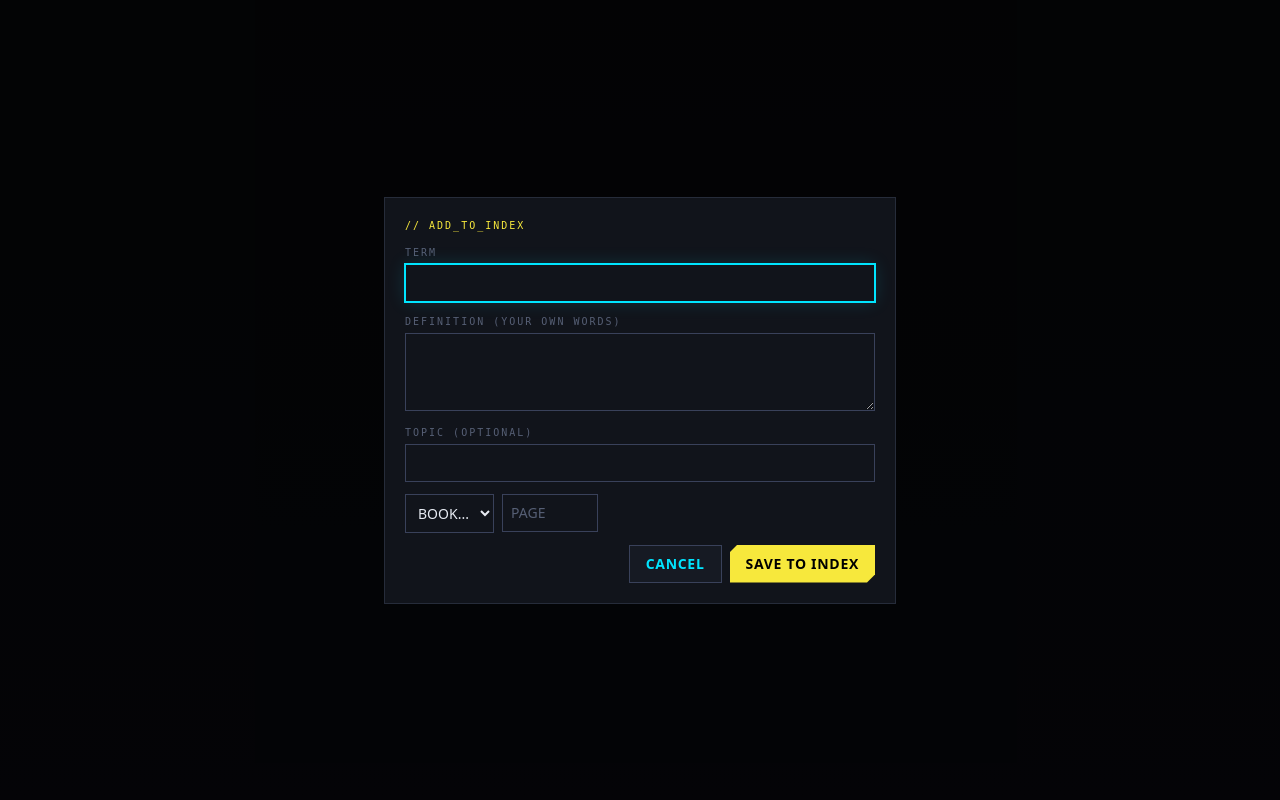
Scenario: a blank-citation page input of '3.5' is rejected with an error and no store write
In the field labelled "TERM": (640, 282) [405,264,875,302], type "Regolith Sweep"
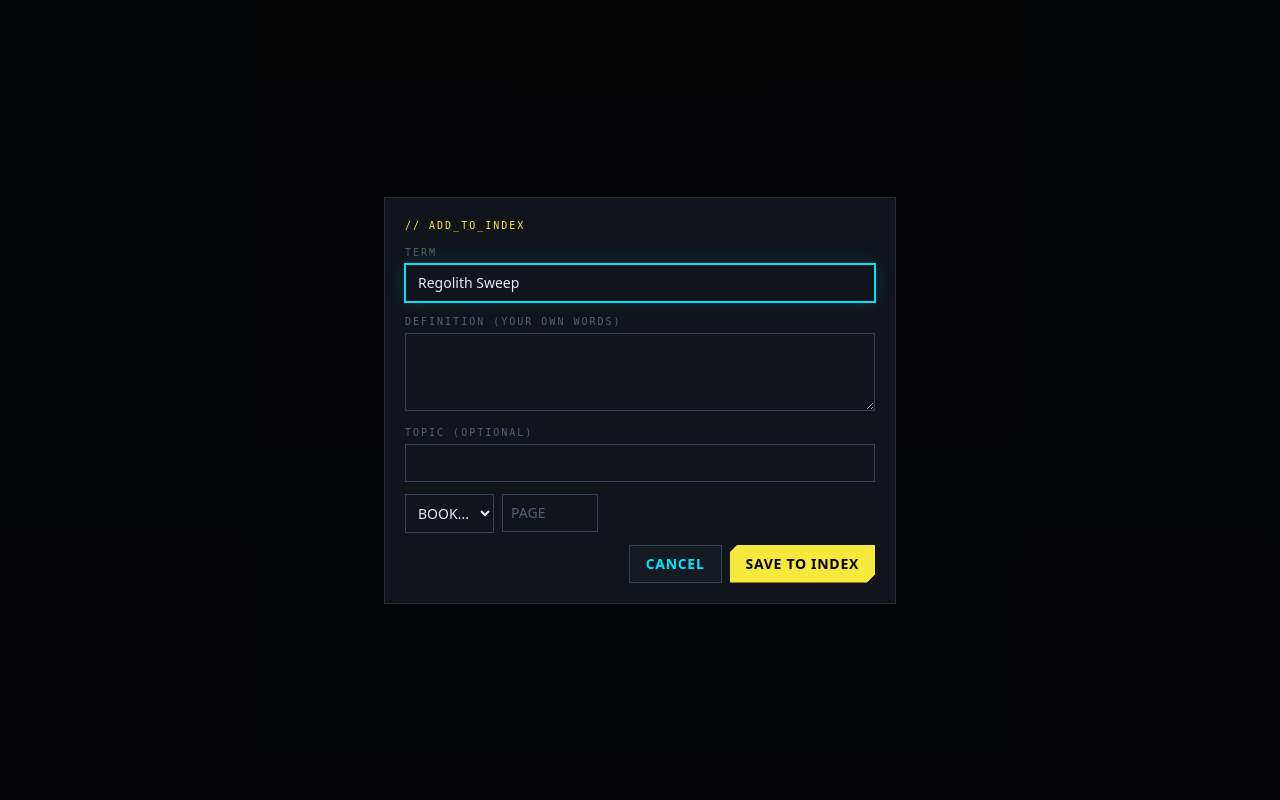
Select "Book 1" in the dropdown named "Citation book": (450, 513) [405,494,494,532]
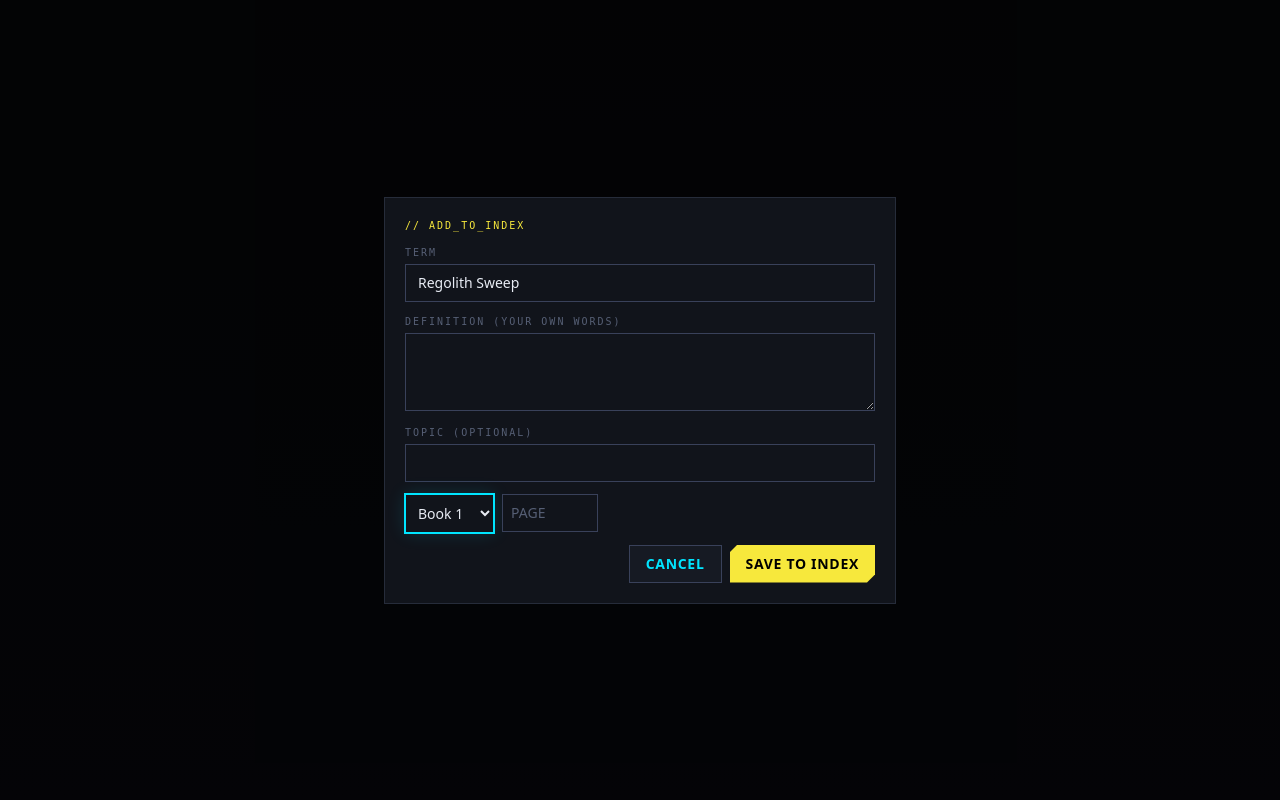
In the field named "Citation printed page": (550, 513) [502,494,598,532], type "3.5"
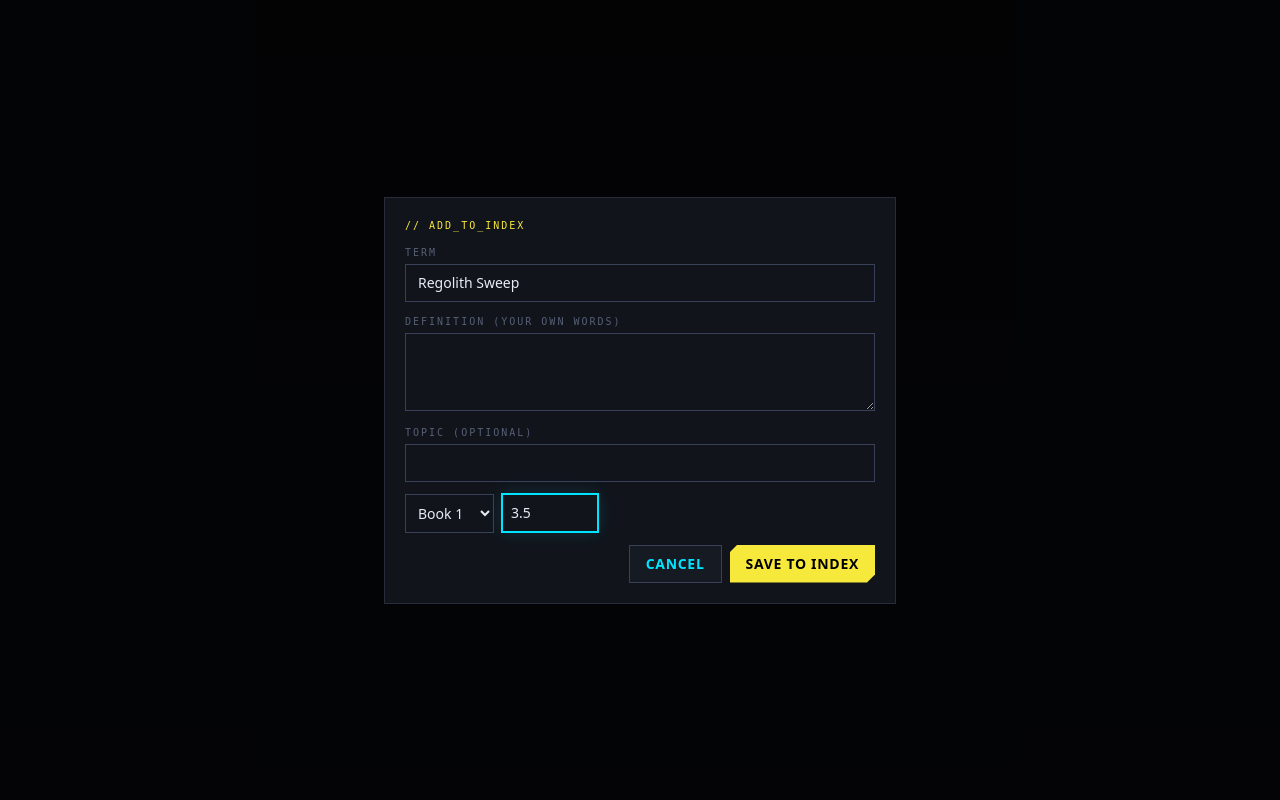
Click the button "SAVE TO INDEX": (802, 564) [730,544,875,582]
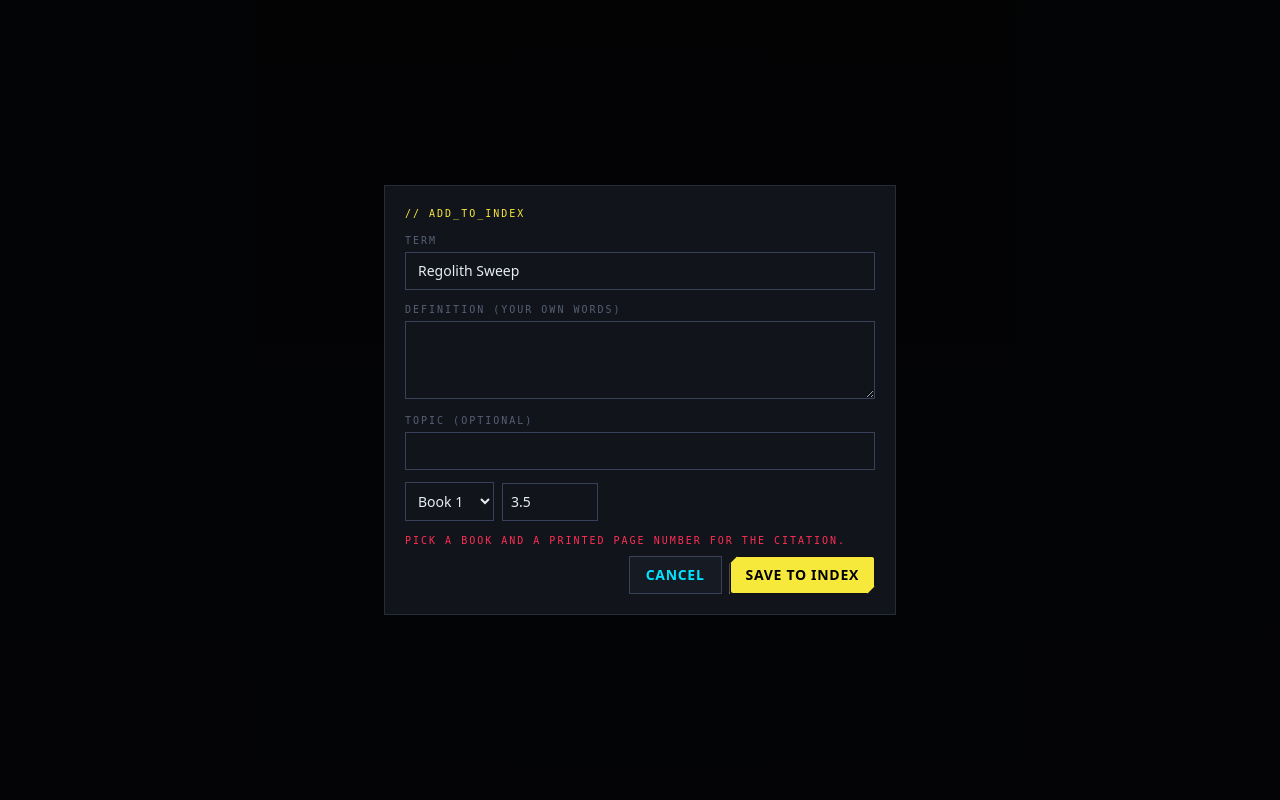
Now the text "Pick a book and a printed page number for the citation." is shown, box [405,533,875,548]
